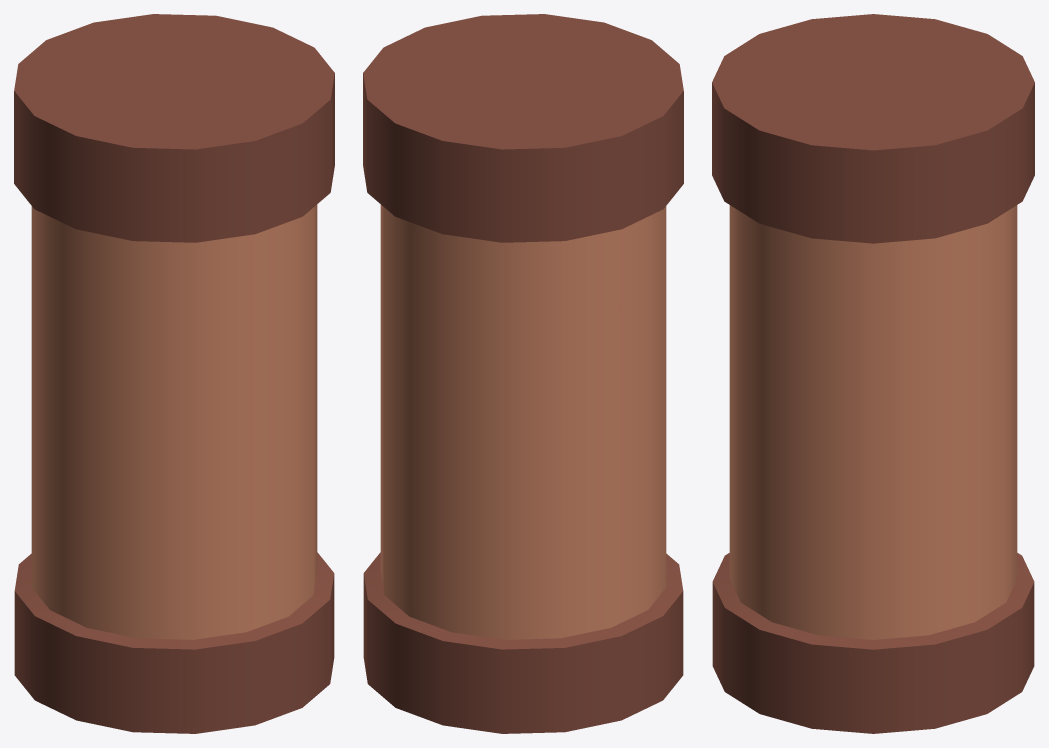
Rendered from ColumnFractured3.fbx.
3 renders of one model, left to right at view 1: azimuth 30°, elevation 25°; view 2: azimuth 150°, elevation 25°; view 3: azimuth 270°, elevation 25°, orthographic.
Visible parts, largest first — view 1: Цилиндр_Цилиндр.003, Цилиндр_Цилиндр.001, Цилиндр_Цилиндр.002; view 2: Цилиндр_Цилиндр.003, Цилиндр_Цилиндр.001, Цилиндр_Цилиндр.002; view 3: Цилиндр_Цилиндр.003, Цилиндр_Цилиндр.001, Цилиндр_Цилиндр.002.
Boxes of the visible parts, left/top/right/bottom form: Цилиндр_Цилиндр.003: left=31, top=204, right=317, bottom=639; Цилиндр_Цилиндр.001: left=14, top=14, right=334, bottom=242; Цилиндр_Цилиндр.002: left=14, top=552, right=334, bottom=733; Цилиндр_Цилиндр.003: left=380, top=204, right=666, bottom=639; Цилиндр_Цилиндр.001: left=363, top=14, right=683, bottom=242; Цилиндр_Цилиндр.002: left=363, top=552, right=683, bottom=733; Цилиндр_Цилиндр.003: left=729, top=205, right=1017, bottom=639; Цилиндр_Цилиндр.001: left=712, top=14, right=1034, bottom=243; Цилиндр_Цилиндр.002: left=712, top=553, right=1034, bottom=733.
Bounding box in the file's own units: 101 × 202 × 101.
